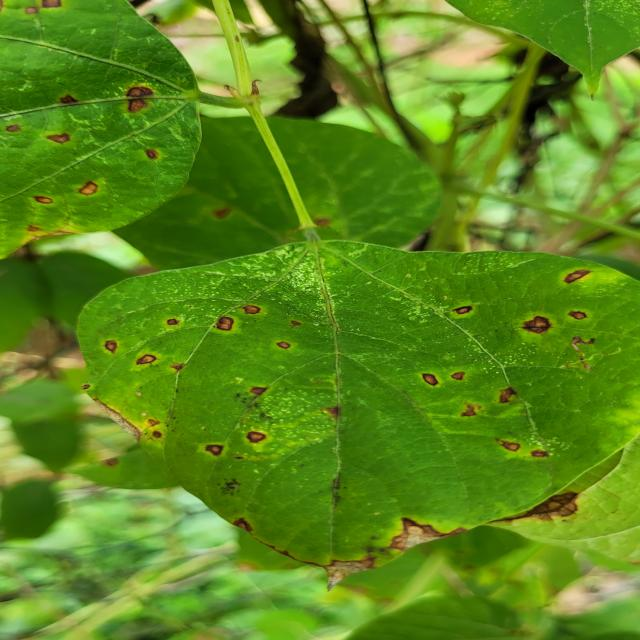Dolicos bean_cercospora leaf spot: (65, 235, 640, 576), (102, 101, 446, 300), (0, 0, 204, 256)
